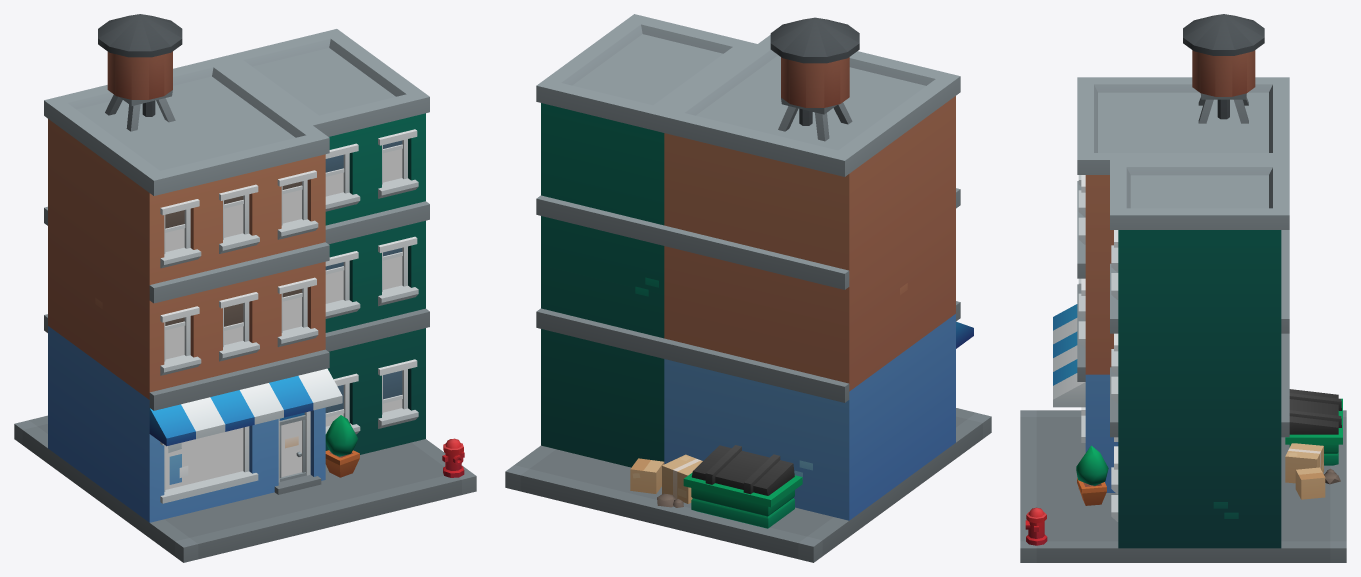
Rendered from building_G_lit.glb.
The picture shows the model from 3 angles, left to right: view 1: azimuth 30°, elevation 25°; view 2: azimuth 150°, elevation 25°; view 3: azimuth 270°, elevation 25°; orthographic projection. The views are drawn at different scales.
Parts seen in each view (by area): view 1: building_G_lit; view 2: building_G_lit; view 3: building_G_lit.
Part boxes in pixels (box(x1,y1,x2,y2)): building_G_lit: box(14, 14, 476, 562); building_G_lit: box(505, 14, 991, 562); building_G_lit: box(1020, 14, 1346, 562).
Bounding box in the file's own units: 2.01 × 2.98 × 2.
4 materials, 1 textured.
